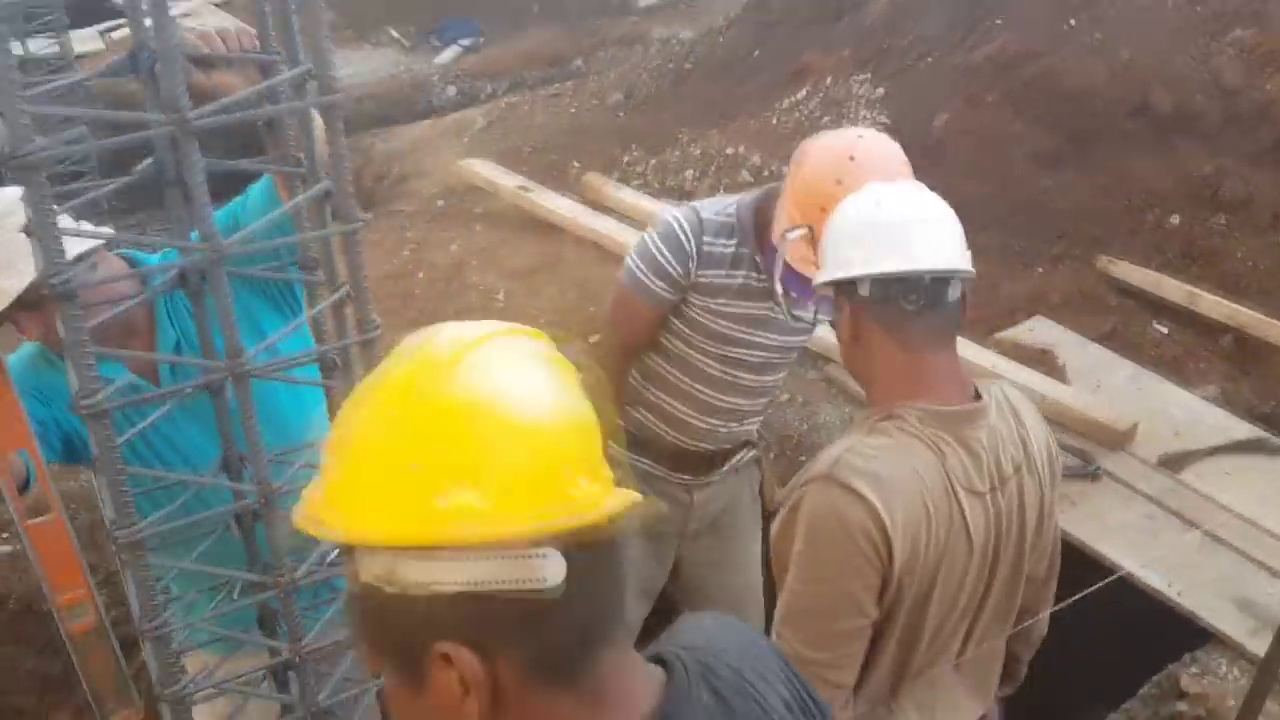helmet: (273, 315, 673, 600), (773, 131, 914, 283), (820, 184, 974, 307)
helmet-off: (0, 182, 168, 388)
helmet-on: (269, 306, 676, 663), (818, 188, 990, 412), (730, 127, 914, 284)
person: (0, 28, 381, 712), (270, 299, 817, 715), (766, 188, 1060, 715), (614, 122, 910, 639)
